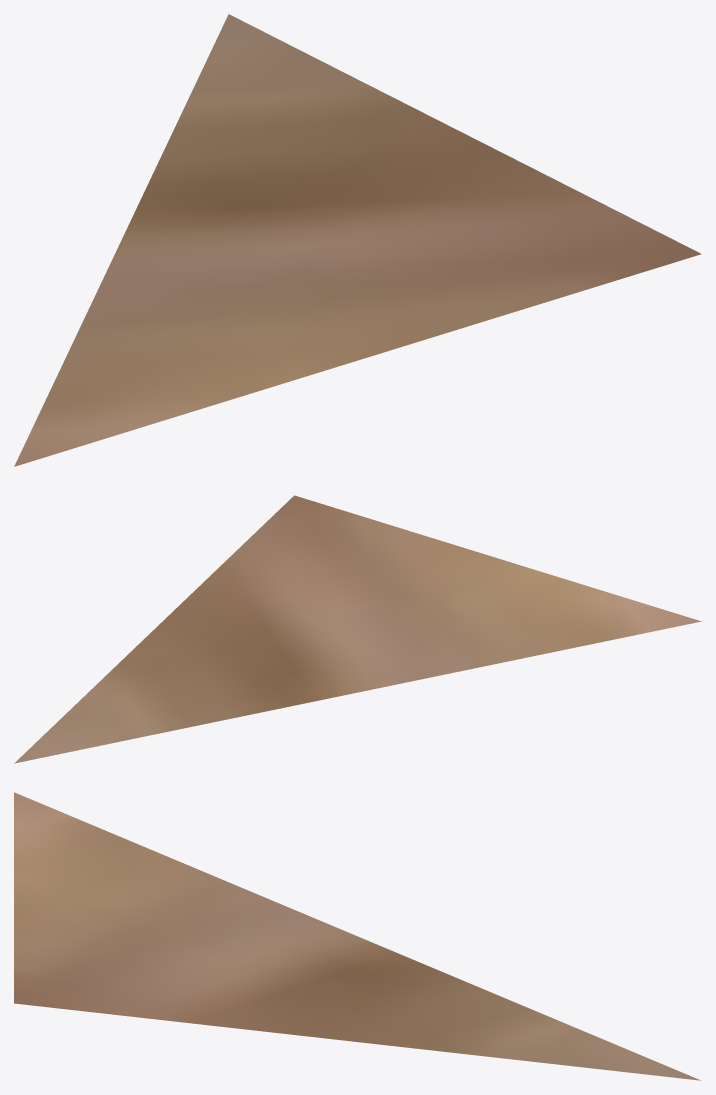
3 renders of one model, top to bottom at view 1: azimuth 30°, elevation 25°; view 2: azimuth 150°, elevation 25°; view 3: azimuth 270°, elevation 25°, orthographic. The views are drawn at different scales.
Size of the model in its own units: 0.1697 by 0.0251 by 0.2022.
Materials: 1 (1 with a texture image).
